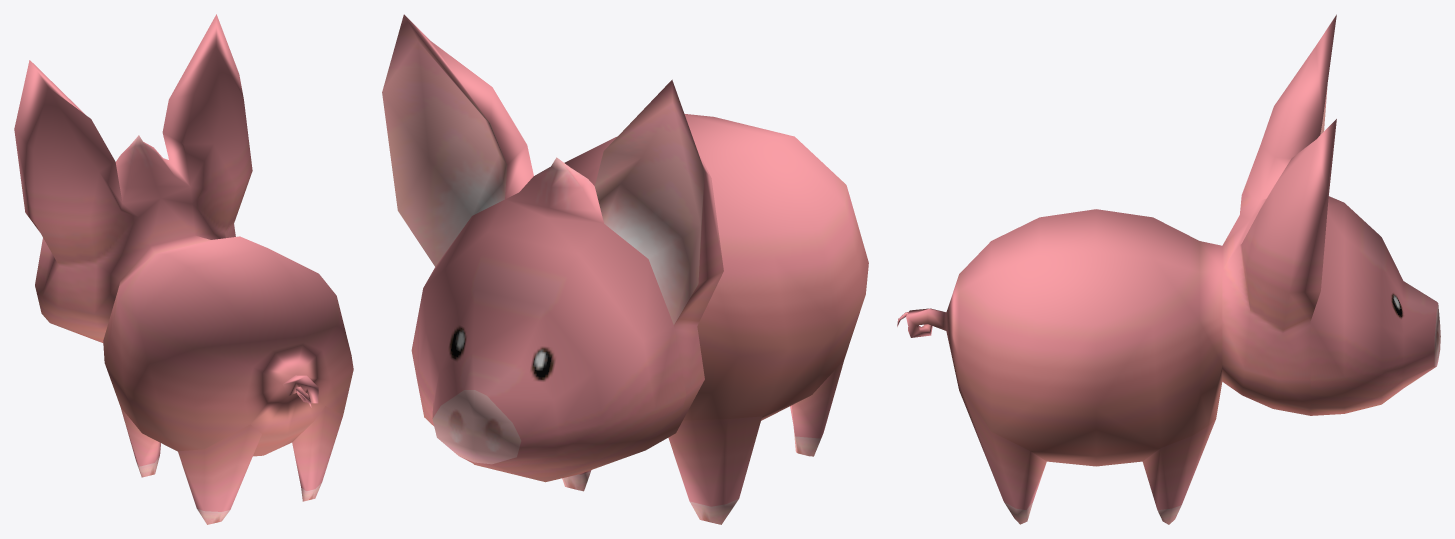
The model's file is icon.ico.obj.
3 renders of one model, left to right at view 1: azimuth 30°, elevation 25°; view 2: azimuth 150°, elevation 25°; view 3: azimuth 270°, elevation 25°, orthographic. The views are drawn at different scales.
Bounding box in the file's own units: 2.61 × 4.14 × 4.76.
1 material, 1 textured.
